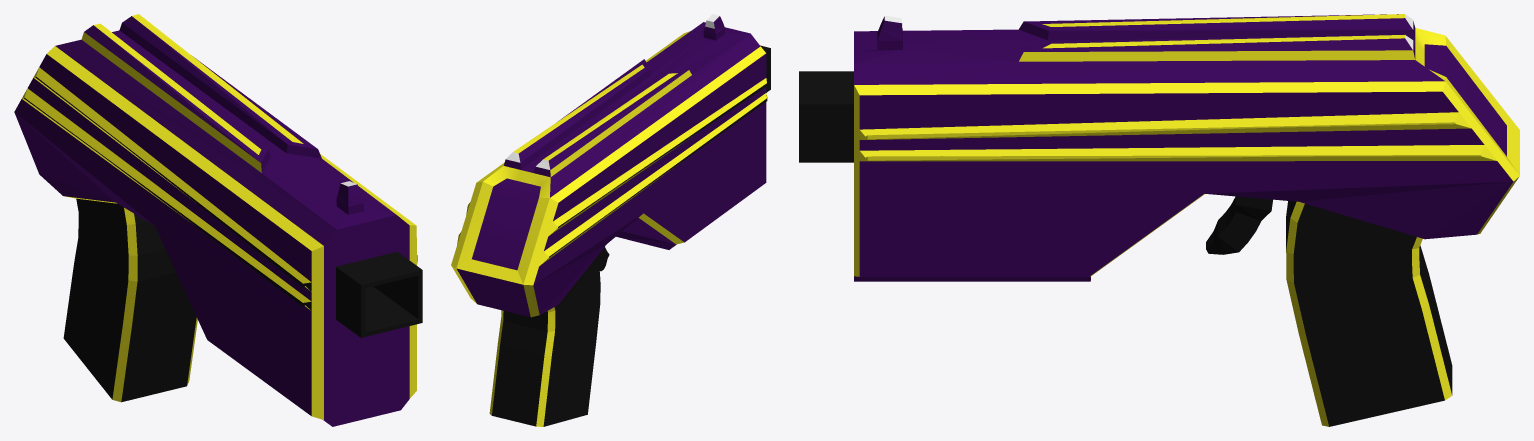
Rendered from pistol_model2.FBX.
The picture shows the model from 3 angles, left to right: view 1: azimuth 30°, elevation 25°; view 2: azimuth 150°, elevation 25°; view 3: azimuth 270°, elevation 25°; orthographic projection. The views are drawn at different scales.
Visible parts, largest first — view 1: modelo pistola; view 2: modelo pistola; view 3: modelo pistola.
Part boxes in pixels (x1,y1,x2,y2): modelo pistola: (14, 14, 422, 426); modelo pistola: (451, 14, 770, 426); modelo pistola: (799, 14, 1519, 426).
Bounding box in the file's own units: 0.2925 × 0.8606 × 1.44.
